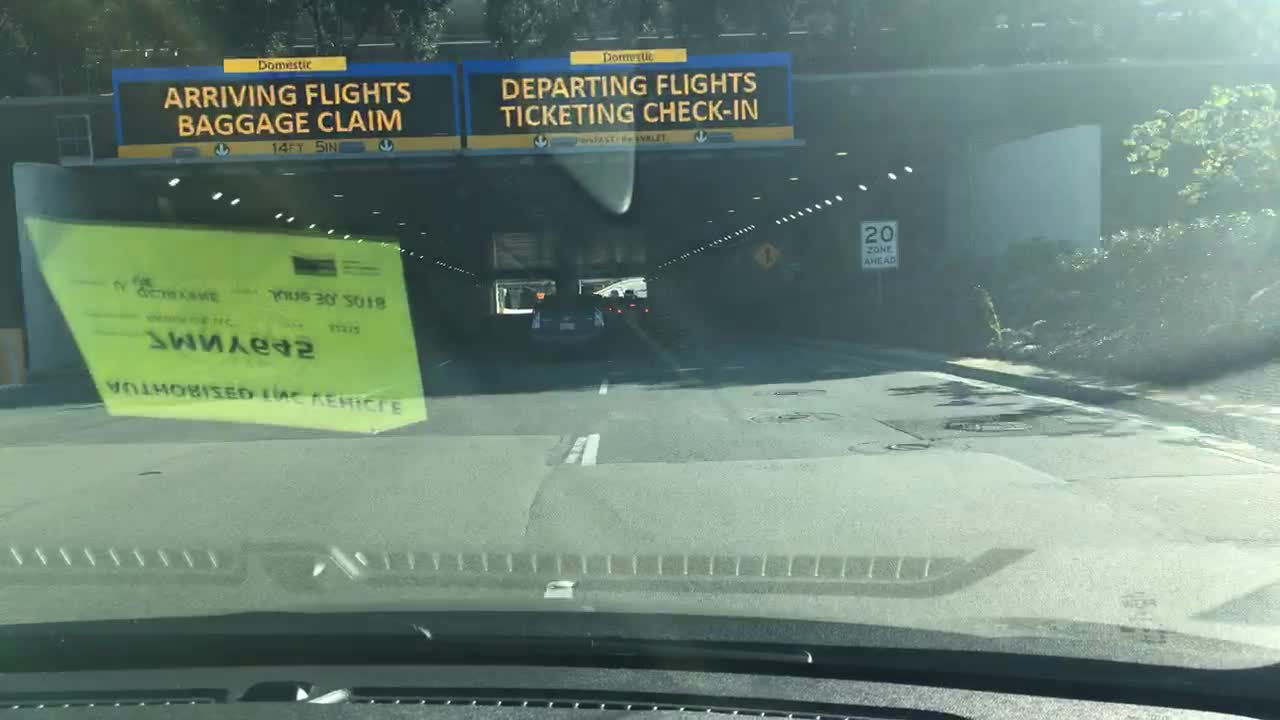car: (522, 292, 614, 359), (607, 299, 625, 318)
traffic sign: (459, 48, 799, 153), (115, 56, 461, 157), (862, 220, 900, 269), (755, 243, 781, 270), (536, 291, 545, 299)
